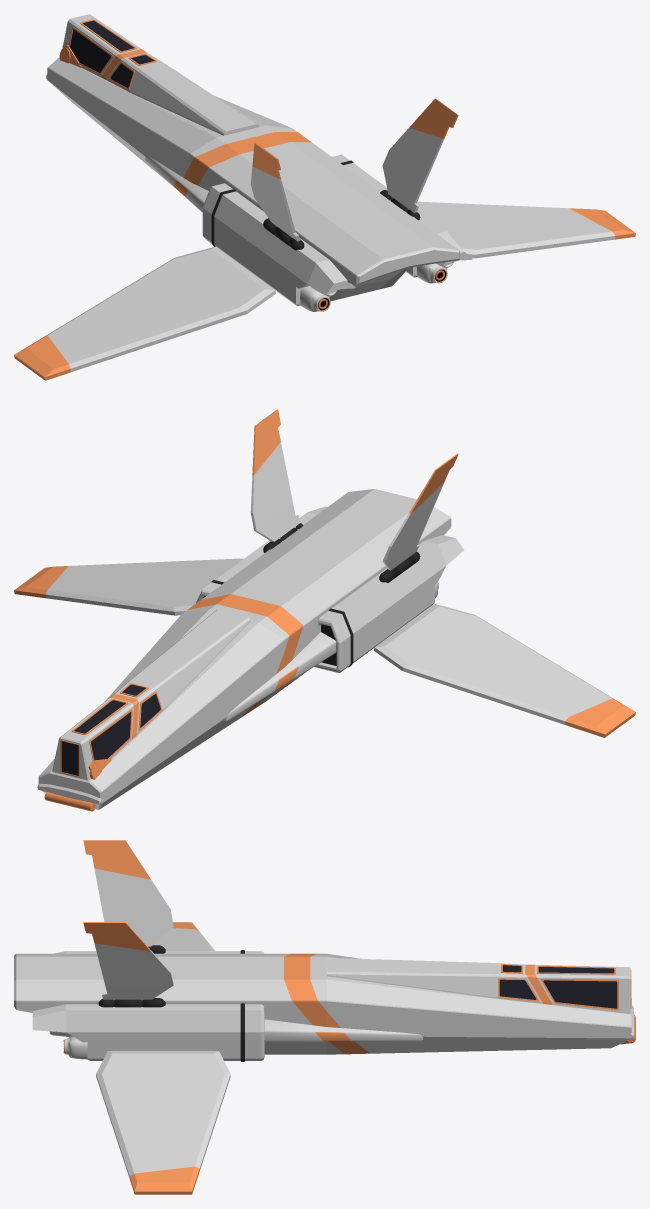
File: OrangeFighter.fbx
3 renders of one model, top to bottom at view 1: azimuth 30°, elevation 25°; view 2: azimuth 150°, elevation 25°; view 3: azimuth 270°, elevation 25°, orthographic. The views are drawn at different scales.
Visible parts, largest first — view 1: Body, Wings.002, EnginePanel, Cockpit, Wings.001, Fins, Fins.001, Strokes, LeftEngine.001; view 2: Body, Wings.002, Cockpit, EnginePanel, Wings.001, Fins, Fins.001, Strokes; view 3: Body, Wings.001, EnginePanel, Cockpit, Fins.001, Fins, Strokes, Wings.002.
Part boxes in pixels (x1,y1,x2,y2): Body: [46, 57, 459, 301]; Wings.002: [14, 246, 275, 380]; EnginePanel: [202, 154, 472, 305]; Cockpit: [63, 14, 259, 135]; Wings.001: [417, 201, 635, 258]; Fins: [380, 98, 458, 220]; Fins.001: [250, 142, 304, 250]; Strokes: [145, 155, 208, 212]; LeftEngine.001: [300, 286, 330, 311]; Body: [37, 489, 451, 809]; Wings.002: [374, 603, 635, 737]; Cockpit: [52, 609, 250, 780]; EnginePanel: [196, 506, 464, 672]; Wings.001: [14, 558, 242, 615]; Fins: [250, 409, 303, 552]; Fins.001: [379, 453, 458, 582]; Strokes: [222, 632, 336, 722]; Body: [14, 953, 633, 1054]; Wings.001: [96, 1051, 230, 1194]; EnginePanel: [32, 950, 264, 1061]; Cockpit: [327, 958, 631, 1013]; Fins.001: [83, 840, 173, 953]; Fins: [83, 922, 173, 1007]; Strokes: [264, 1019, 423, 1041]; Wings.002: [153, 922, 214, 950].
Bounding box in the file's own units: 983 × 305 × 960.
